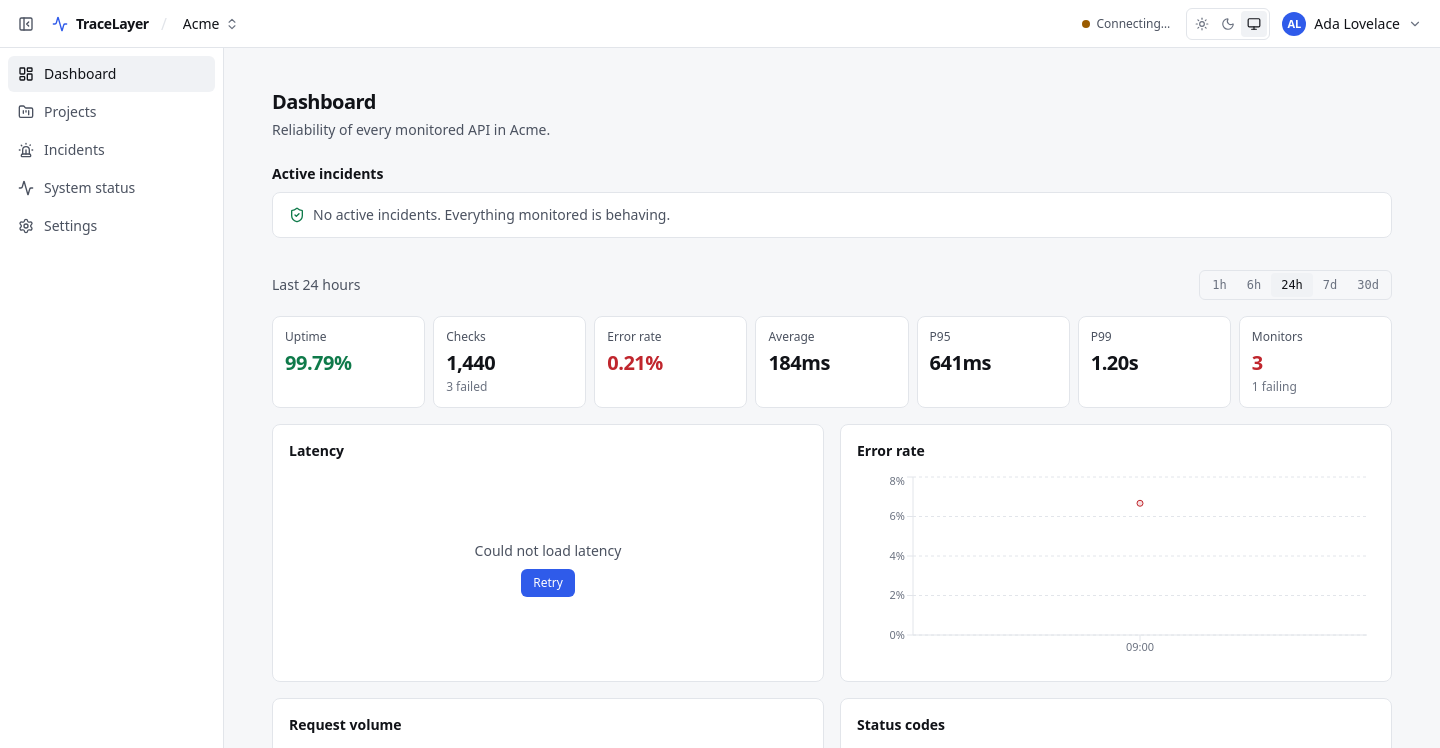
it: dashboard › shows an error with retry in the chart that failed, keeping the rest
Expected: the message "Could not load latency Retry" is shown, top-left (475, 541), bottom-right (621, 597)
Expected: the picture named "Error rate last 24 hours" is shown, top-left (857, 473), bottom-right (1375, 665)
Click the button "Retry": [548, 583] box top-left (521, 569), bottom-right (575, 597)
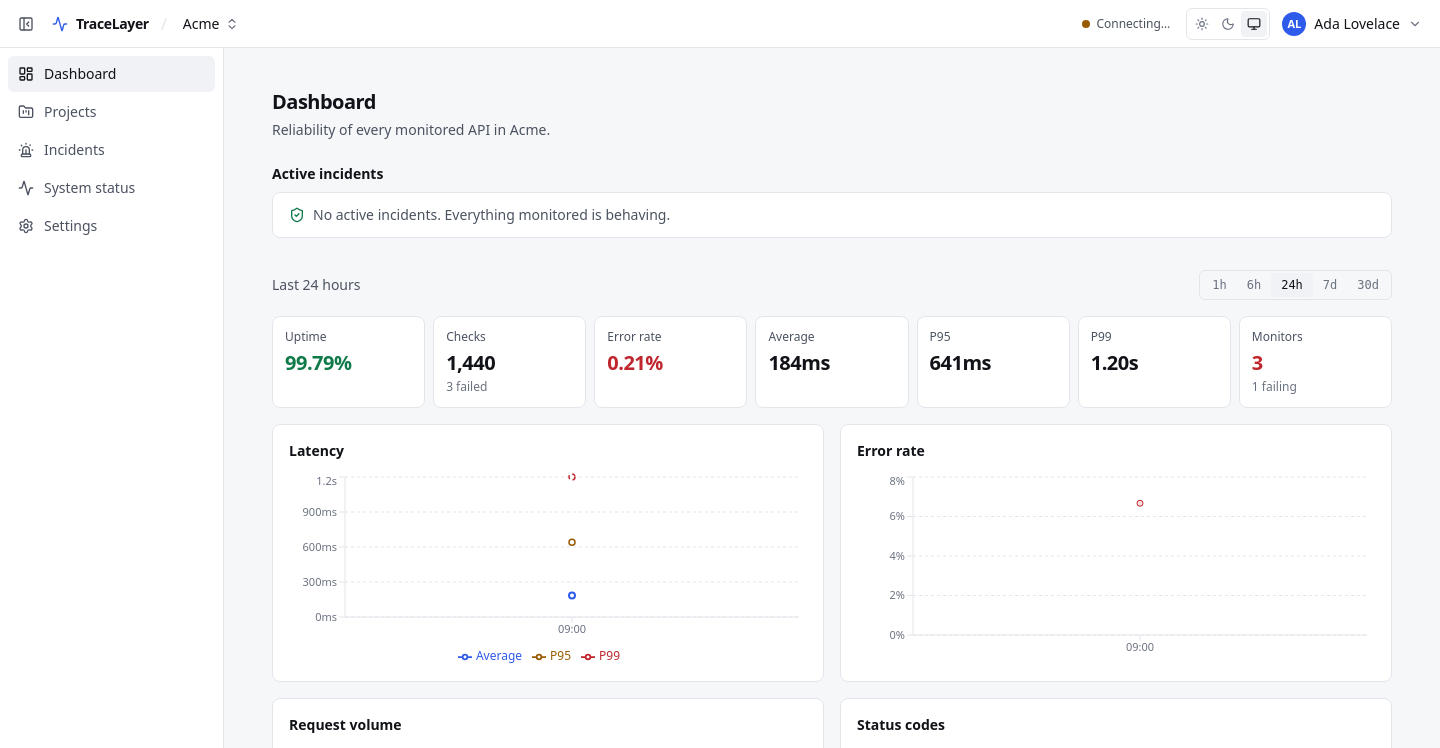
Result: the picture named "Latency last 24 hours" is shown at top-left (289, 473), bottom-right (807, 665)
